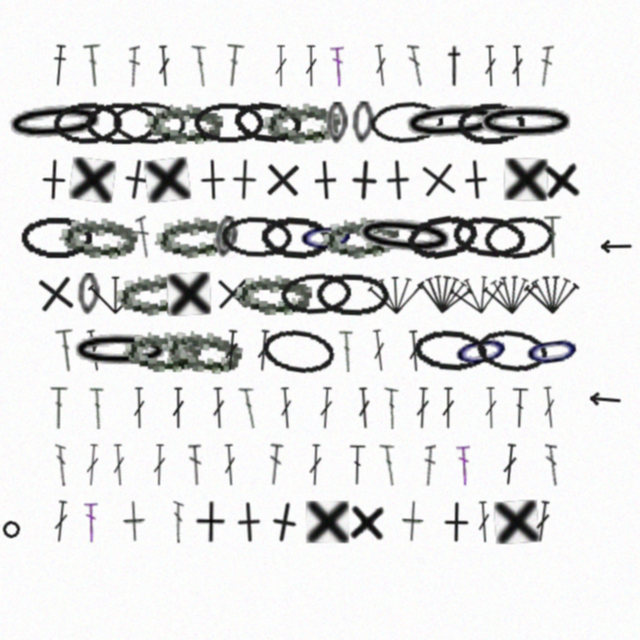chain: (351, 211, 459, 263), (2, 98, 109, 148), (399, 98, 506, 147), (474, 102, 579, 144), (68, 330, 173, 372), (319, 212, 401, 262), (113, 269, 195, 319), (162, 326, 244, 376), (403, 210, 480, 263), (260, 325, 338, 377), (153, 212, 234, 261), (450, 212, 527, 262), (474, 326, 549, 376), (231, 98, 305, 147), (482, 213, 557, 261), (412, 327, 488, 374), (262, 100, 341, 145), (369, 99, 444, 146), (59, 215, 138, 259), (112, 100, 187, 145), (259, 214, 332, 260), (279, 271, 352, 317), (449, 325, 514, 376), (145, 102, 223, 144), (234, 273, 312, 315), (123, 330, 201, 372), (315, 272, 389, 316), (220, 215, 292, 259), (456, 101, 527, 145), (52, 101, 124, 144), (521, 326, 584, 375), (85, 102, 157, 144), (193, 102, 265, 144), (20, 216, 92, 258), (296, 214, 357, 259), (212, 215, 240, 259), (351, 101, 375, 144), (77, 273, 100, 315), (326, 102, 348, 144)
double: (55, 329, 78, 372), (223, 44, 245, 87), (238, 386, 260, 429), (83, 44, 104, 87), (84, 329, 104, 372), (379, 443, 399, 486), (191, 44, 210, 87), (533, 500, 552, 543), (372, 44, 390, 87), (370, 329, 388, 372), (501, 443, 519, 486), (52, 500, 70, 543), (544, 216, 562, 258), (50, 387, 68, 429), (511, 387, 529, 429), (407, 44, 424, 87), (135, 215, 152, 258), (223, 329, 240, 372), (255, 329, 272, 372), (541, 386, 558, 429), (267, 443, 284, 486), (406, 330, 423, 372), (84, 444, 101, 486), (349, 444, 366, 486), (538, 44, 554, 87), (156, 45, 172, 87), (330, 45, 346, 87), (338, 330, 354, 372), (278, 387, 294, 429), (318, 387, 334, 429), (356, 387, 372, 429), (111, 444, 127, 486), (188, 444, 204, 486), (222, 444, 238, 486), (456, 444, 472, 486), (476, 501, 492, 543), (483, 45, 498, 87), (510, 45, 525, 87), (89, 387, 104, 429), (211, 387, 226, 429), (384, 387, 399, 429), (415, 387, 430, 429), (152, 444, 167, 486), (308, 444, 323, 486), (274, 45, 288, 87), (304, 45, 318, 87), (132, 387, 146, 429), (171, 387, 185, 429), (441, 387, 455, 429), (484, 387, 498, 429), (545, 444, 559, 486), (84, 501, 98, 543), (55, 444, 68, 486), (423, 444, 436, 486), (128, 45, 140, 87), (172, 501, 184, 543)
fan: (447, 268, 509, 319), (414, 269, 475, 318), (481, 271, 540, 317), (367, 272, 424, 316), (524, 272, 580, 316), (88, 273, 143, 315)
half_double: (442, 45, 467, 87), (50, 44, 69, 87)
noise: (587, 392, 621, 407), (598, 240, 632, 253), (1, 519, 22, 540)
single: (260, 498, 308, 546), (113, 156, 160, 203), (415, 156, 462, 203), (32, 270, 79, 317), (69, 157, 116, 203), (144, 157, 191, 203), (453, 157, 498, 202), (494, 500, 539, 544), (303, 158, 347, 202), (342, 158, 386, 202), (376, 158, 420, 202), (167, 272, 211, 316), (227, 500, 271, 544), (504, 158, 548, 201), (541, 157, 583, 202), (32, 158, 75, 201), (191, 158, 234, 201), (223, 158, 266, 201), (261, 158, 304, 201), (211, 272, 254, 315), (306, 501, 349, 543), (435, 501, 477, 543), (347, 500, 388, 543), (194, 501, 226, 543), (401, 500, 425, 543), (123, 500, 146, 543)
